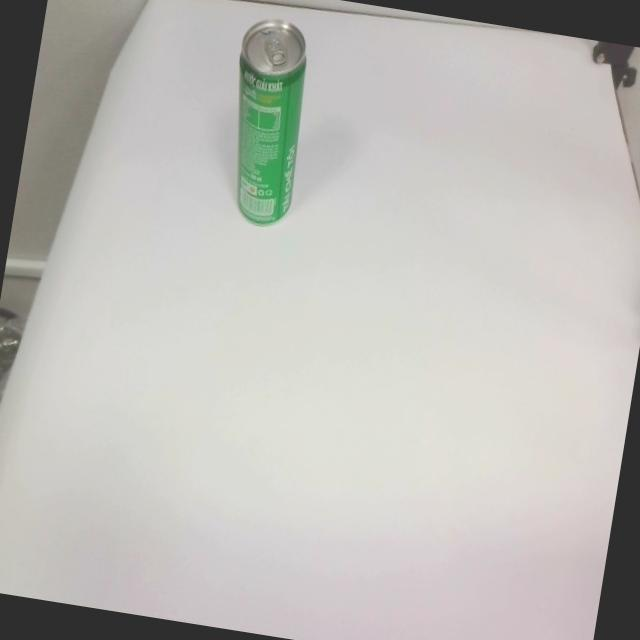debris: (212, 12, 320, 230)
